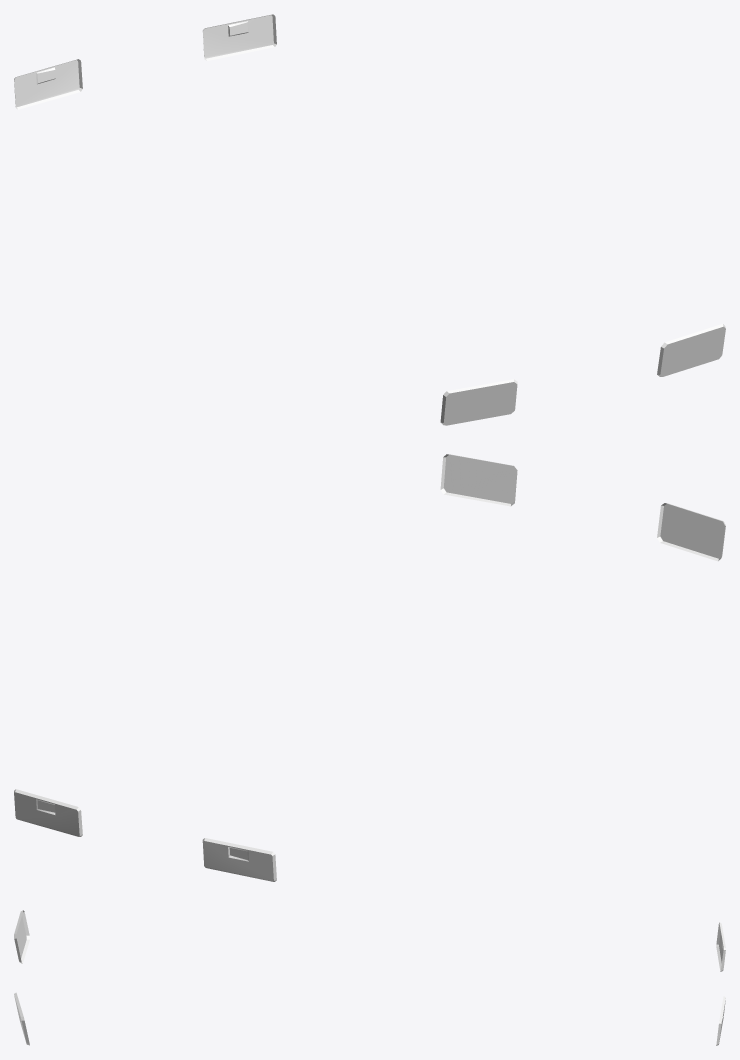
The picture shows the model from 3 angles, top to bottom: view 1: azimuth 30°, elevation 25°; view 2: azimuth 150°, elevation 25°; view 3: azimuth 270°, elevation 25°; orthographic projection. The views are drawn at different scales.
Bounding box in the file's own units: 1.46 × 0.2075 × 4.05.
1 material, 1 textured.
